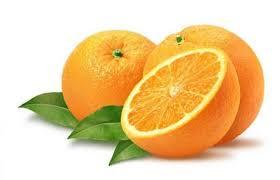orange: (151, 8, 269, 138), (117, 50, 245, 159), (61, 22, 144, 108)
